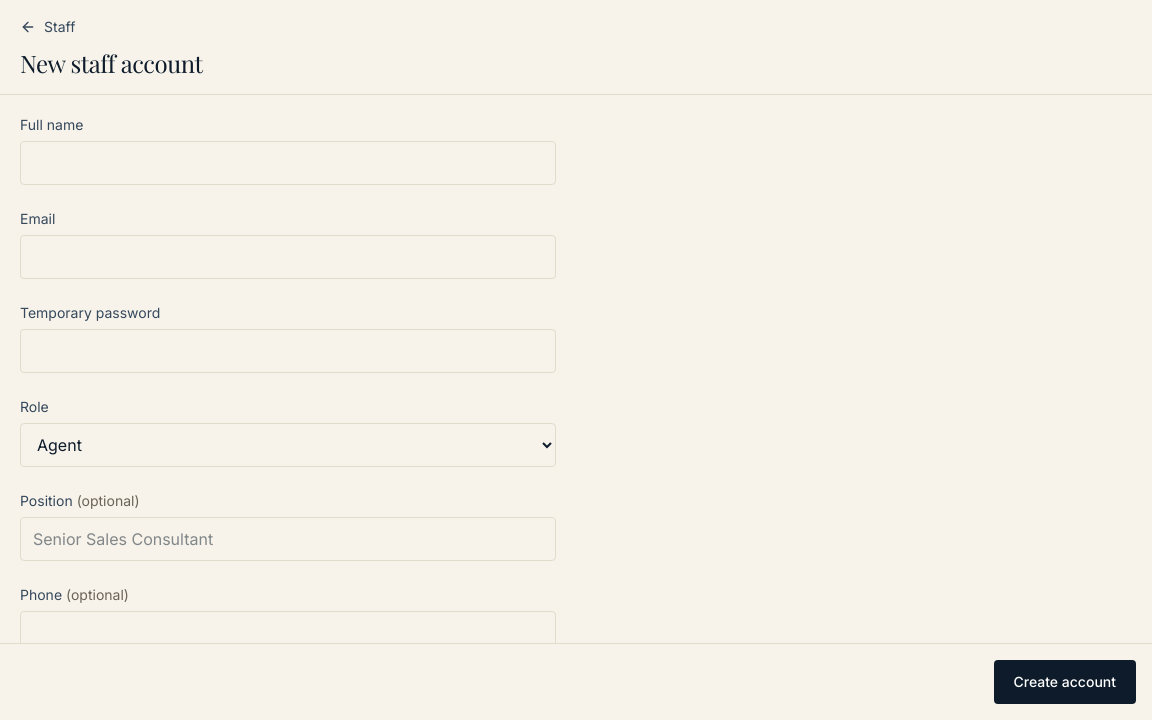
StaffForm › maps the API's field-level details onto the offending inputs
Type "New Consultant" into the field labelled "Full name" at (288, 163), box [20,141,556,185]
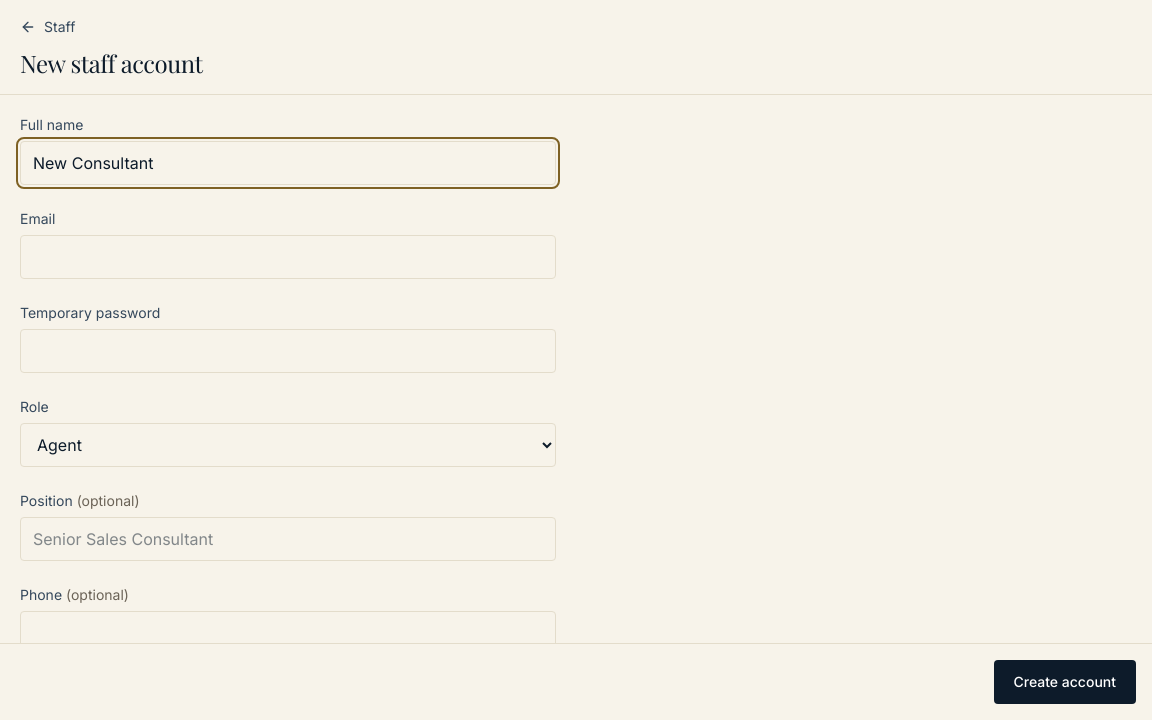
Type "junior@example.com" into the field labelled "Email" at (288, 257), box [20,235,556,279]
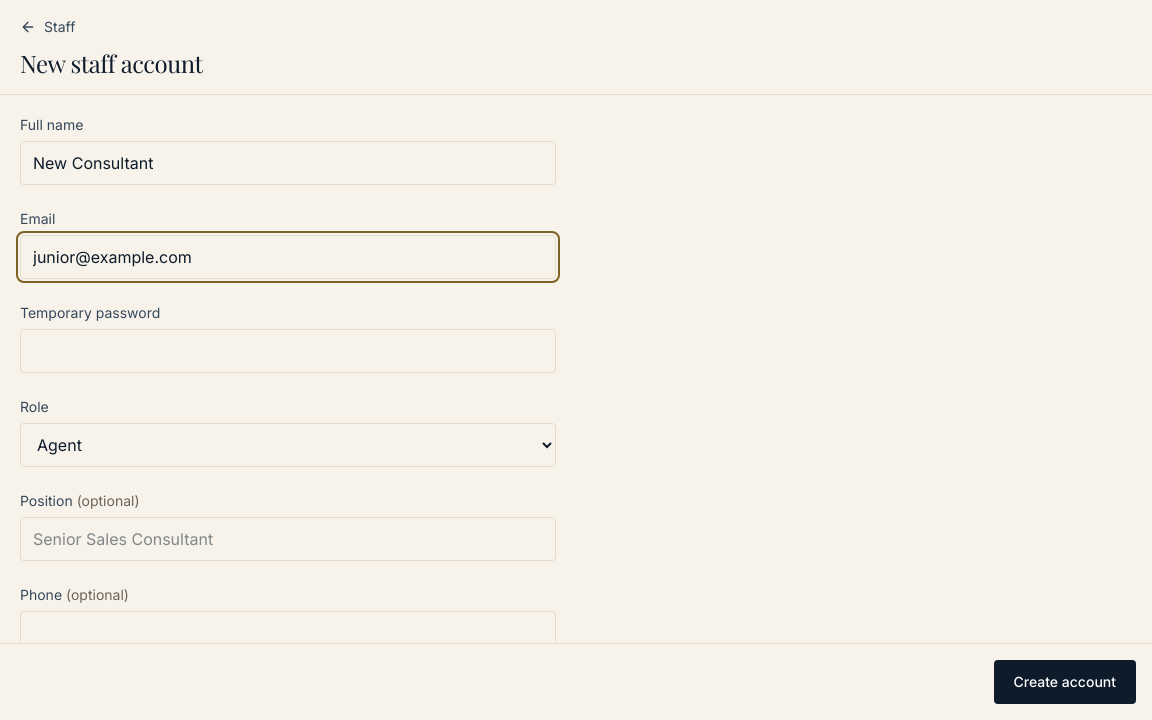
Type "supersecret" into the field labelled "Temporary password" at (288, 351), box [20,329,556,373]
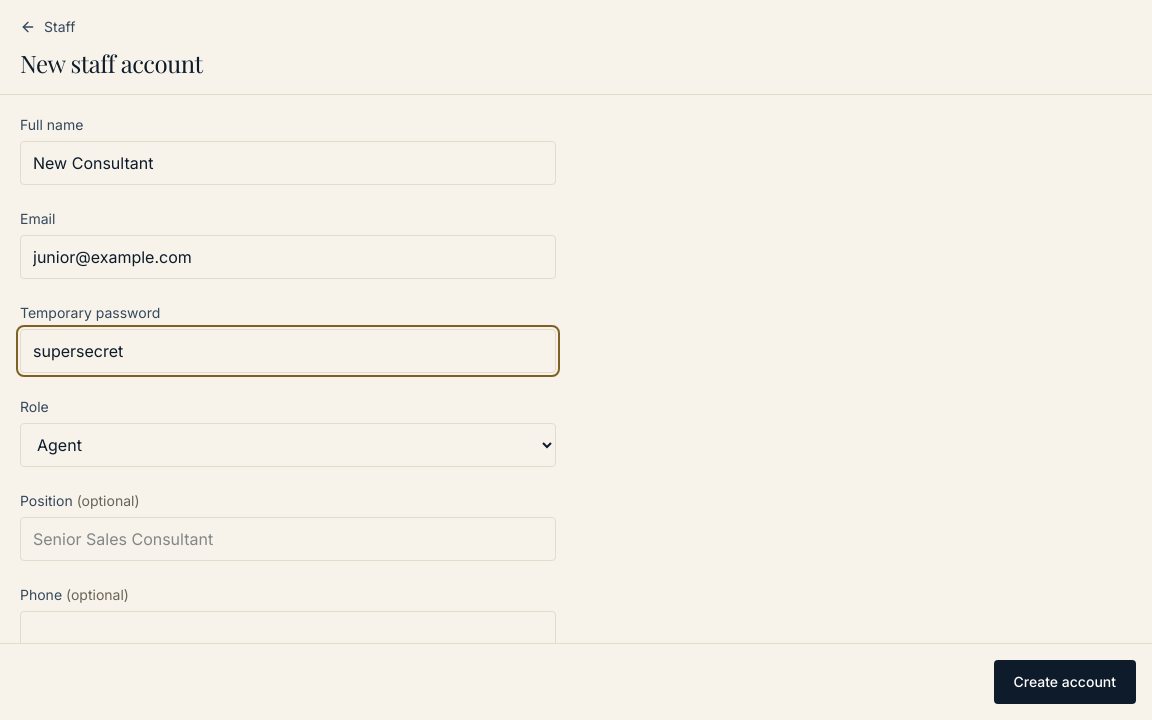
Click the button "Create account" at (1065, 682), box [994,660,1136,704]
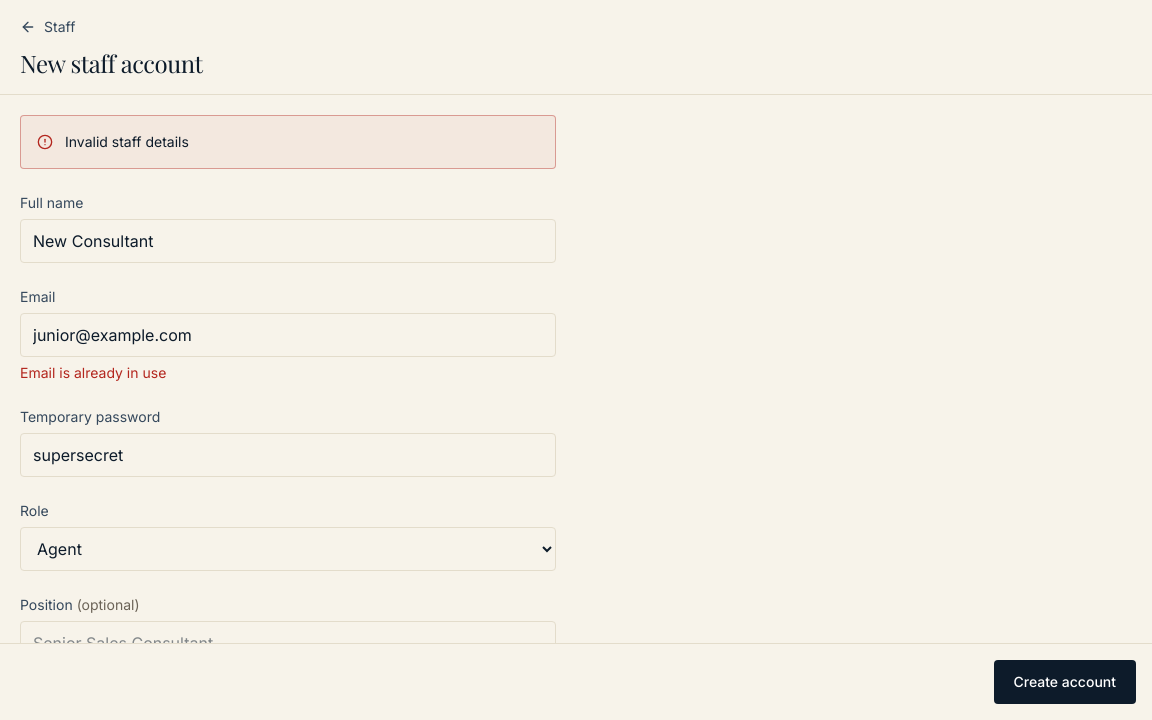
Expected: the text "Email is already in use" is shown, [20,364,166,381]
